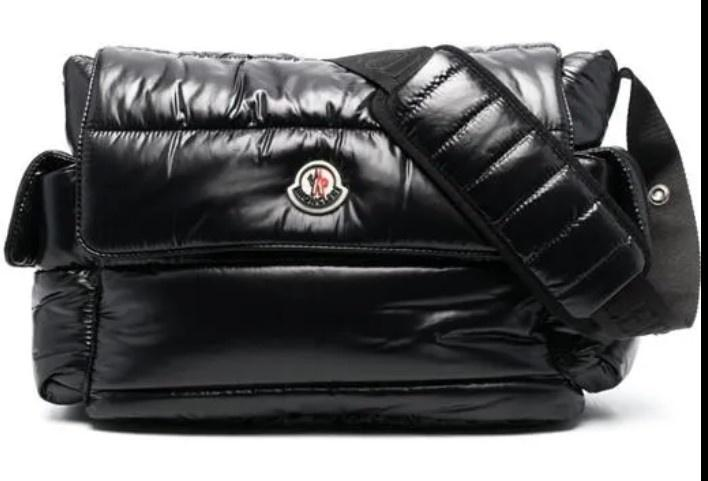MONCLER: (286, 159, 348, 216)
